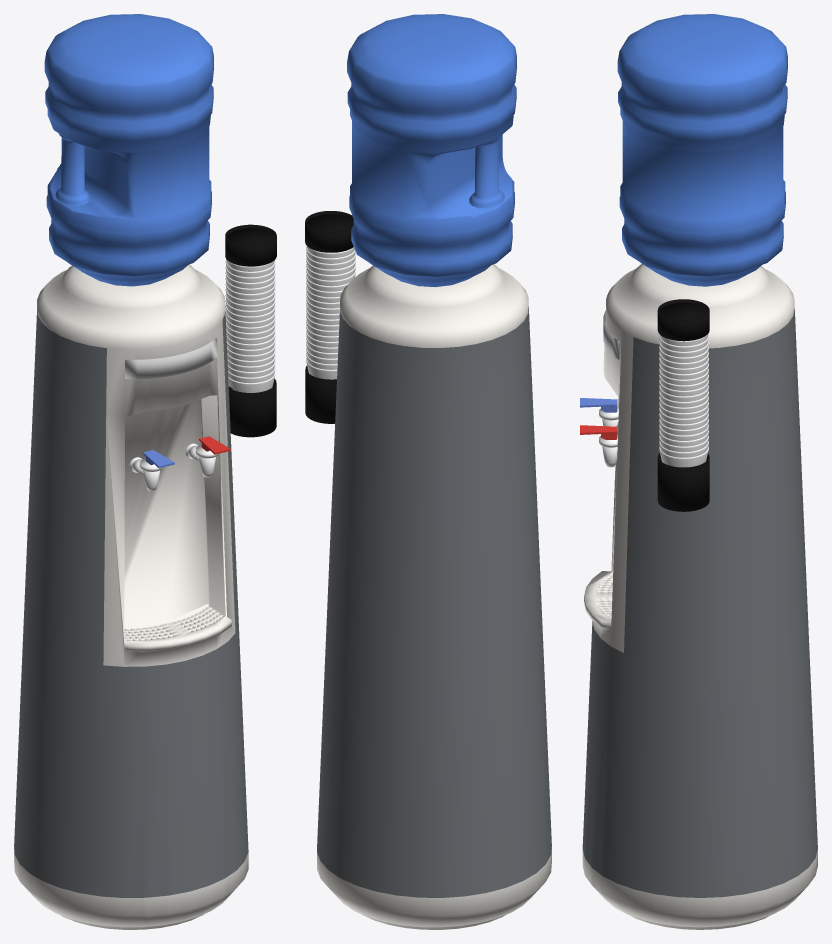
The model's file is poprawionydispenser1.fbx.
3 views of the same model, side by side, from view 1: azimuth 30°, elevation 25°; view 2: azimuth 150°, elevation 25°; view 3: azimuth 270°, elevation 25° (orthographic).
Visible parts, largest first — view 1: Cylinder.007, Circle.001, Cylinder.002, Cube.004, Cylinder.014, Cube.002, Cylinder.016, Cylinder.011; view 2: Cylinder.007, Circle.001, Cylinder.002, Cylinder.014, Cube.004; view 3: Cylinder.007, Circle.001, Cylinder.002, Cube.004, Cylinder.014.
Part boxes in pixels (x1=…): Cylinder.007: x1=14, y1=264, x2=248, y2=929; Circle.001: x1=44, y1=14, x2=213, y2=286; Cylinder.002: x1=225, y1=259, x2=275, y2=392; Cube.004: x1=228, y1=379, x2=276, y2=437; Cylinder.014: x1=225, y1=224, x2=276, y2=266; Cube.002: x1=125, y1=338, x2=217, y2=379; Cylinder.016: x1=129, y1=457, x2=162, y2=491; Cylinder.011: x1=185, y1=443, x2=218, y2=477; Cylinder.007: x1=317, y1=264, x2=551, y2=929; Circle.001: x1=347, y1=14, x2=516, y2=286; Cylinder.002: x1=306, y1=246, x2=355, y2=379; Cylinder.014: x1=305, y1=211, x2=353, y2=252; Cube.004: x1=305, y1=365, x2=336, y2=423; Cylinder.007: x1=582, y1=264, x2=817, y2=929; Circle.001: x1=617, y1=14, x2=787, y2=286; Cylinder.002: x1=659, y1=333, x2=708, y2=467; Cube.004: x1=657, y1=453, x2=709, y2=511; Cylinder.014: x1=657, y1=299, x2=709, y2=341.
Size of the model in its own units: 39.36 by 136 by 34.38.
